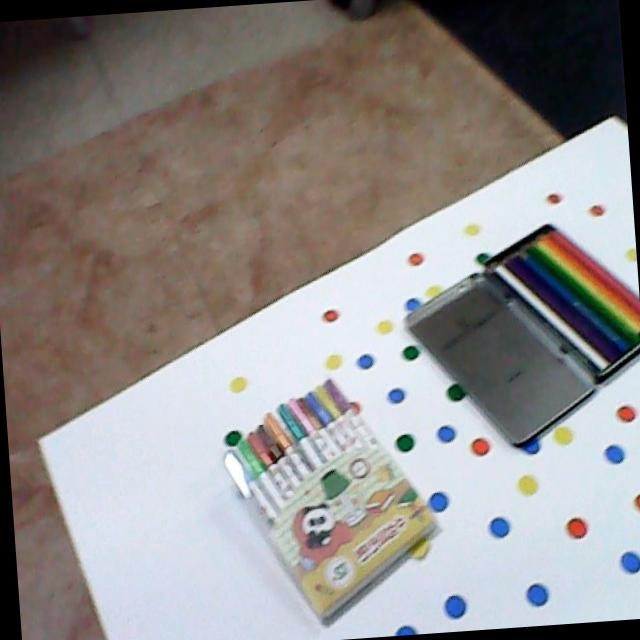color: (479, 212, 640, 381)
signpen: (215, 371, 447, 637)
